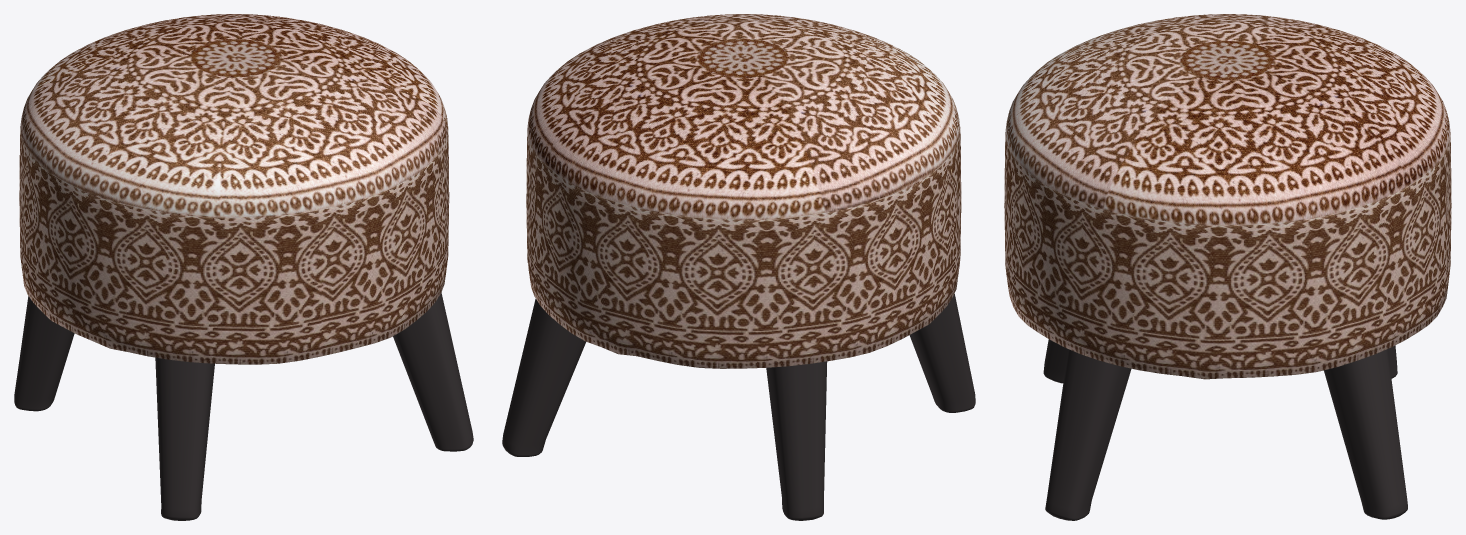
The model's file is Beige _ Brown Round Shape Wooden Sitting Ottoman.glb.
3 views of the same model, side by side, from view 1: azimuth 30°, elevation 25°; view 2: azimuth 150°, elevation 25°; view 3: azimuth 270°, elevation 25° (orthographic). The views are drawn at different scales.
Parts seen in each view (by area): view 1: pCylinder1, pCube5, pCube6, pCube4; view 2: pCylinder1, pCube4, pCube3, pCube5; view 3: pCylinder1, pCube3, pCube6, pCube5.
Boxes of the visible parts, <box> form: pCylinder1: <box>19,14,449,364</box>; pCube5: <box>155,357,214,520</box>; pCube6: <box>393,292,473,451</box>; pCube4: <box>14,296,74,411</box>; pCylinder1: <box>526,14,961,368</box>; pCube4: <box>766,361,827,520</box>; pCube3: <box>502,299,585,456</box>; pCube5: <box>909,294,975,412</box>; pCylinder1: <box>1004,14,1451,379</box>; pCube3: <box>1324,349,1407,519</box>; pCube6: <box>1045,349,1131,520</box>; pCube5: <box>1043,339,1068,383</box>.
Size of the model in its own units: 2.25 by 2.12 by 2.25.
1 material, 1 textured.
